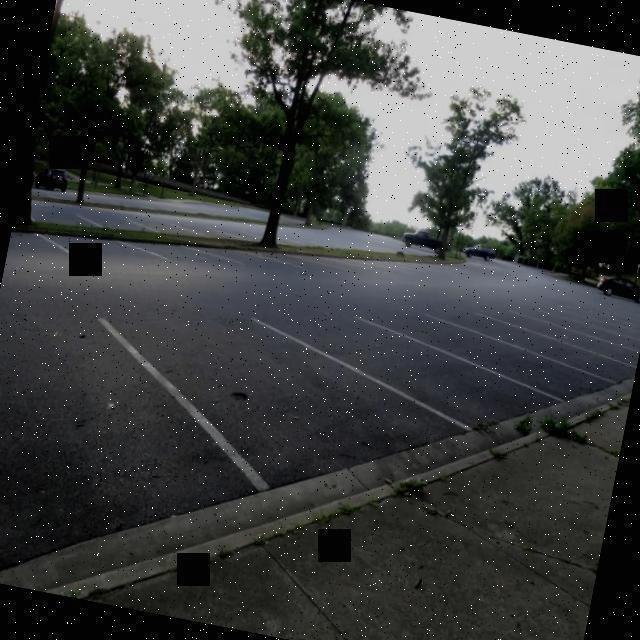space-empty: (104, 315, 478, 496), (0, 313, 269, 563), (250, 317, 573, 434), (357, 313, 623, 407), (424, 310, 637, 386), (472, 310, 640, 371), (37, 234, 170, 261), (116, 241, 248, 266), (180, 247, 308, 270), (229, 249, 357, 271), (8, 231, 76, 254)
